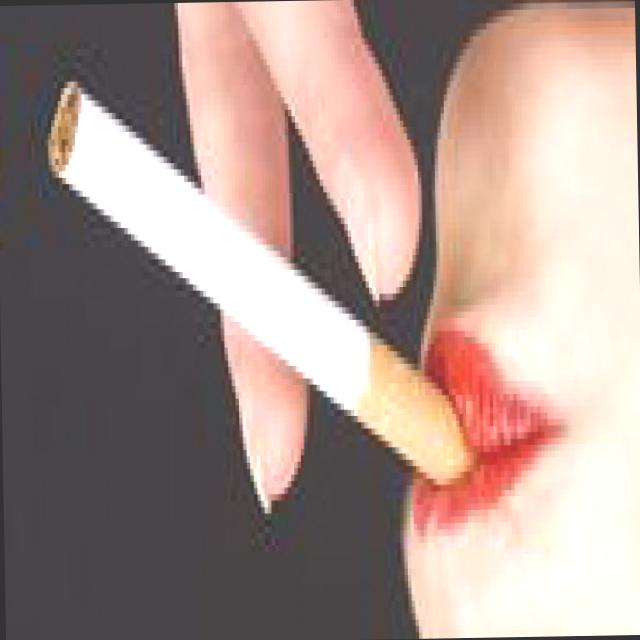cigarette: (35, 46, 484, 528)
